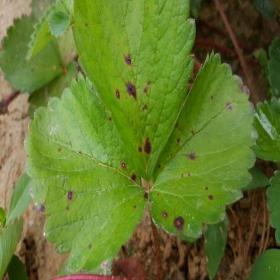Leaf Spot: (23, 70, 147, 274), (71, 0, 196, 182), (147, 47, 259, 243), (0, 12, 66, 94)
